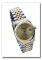watch: (10, 19, 38, 45)
